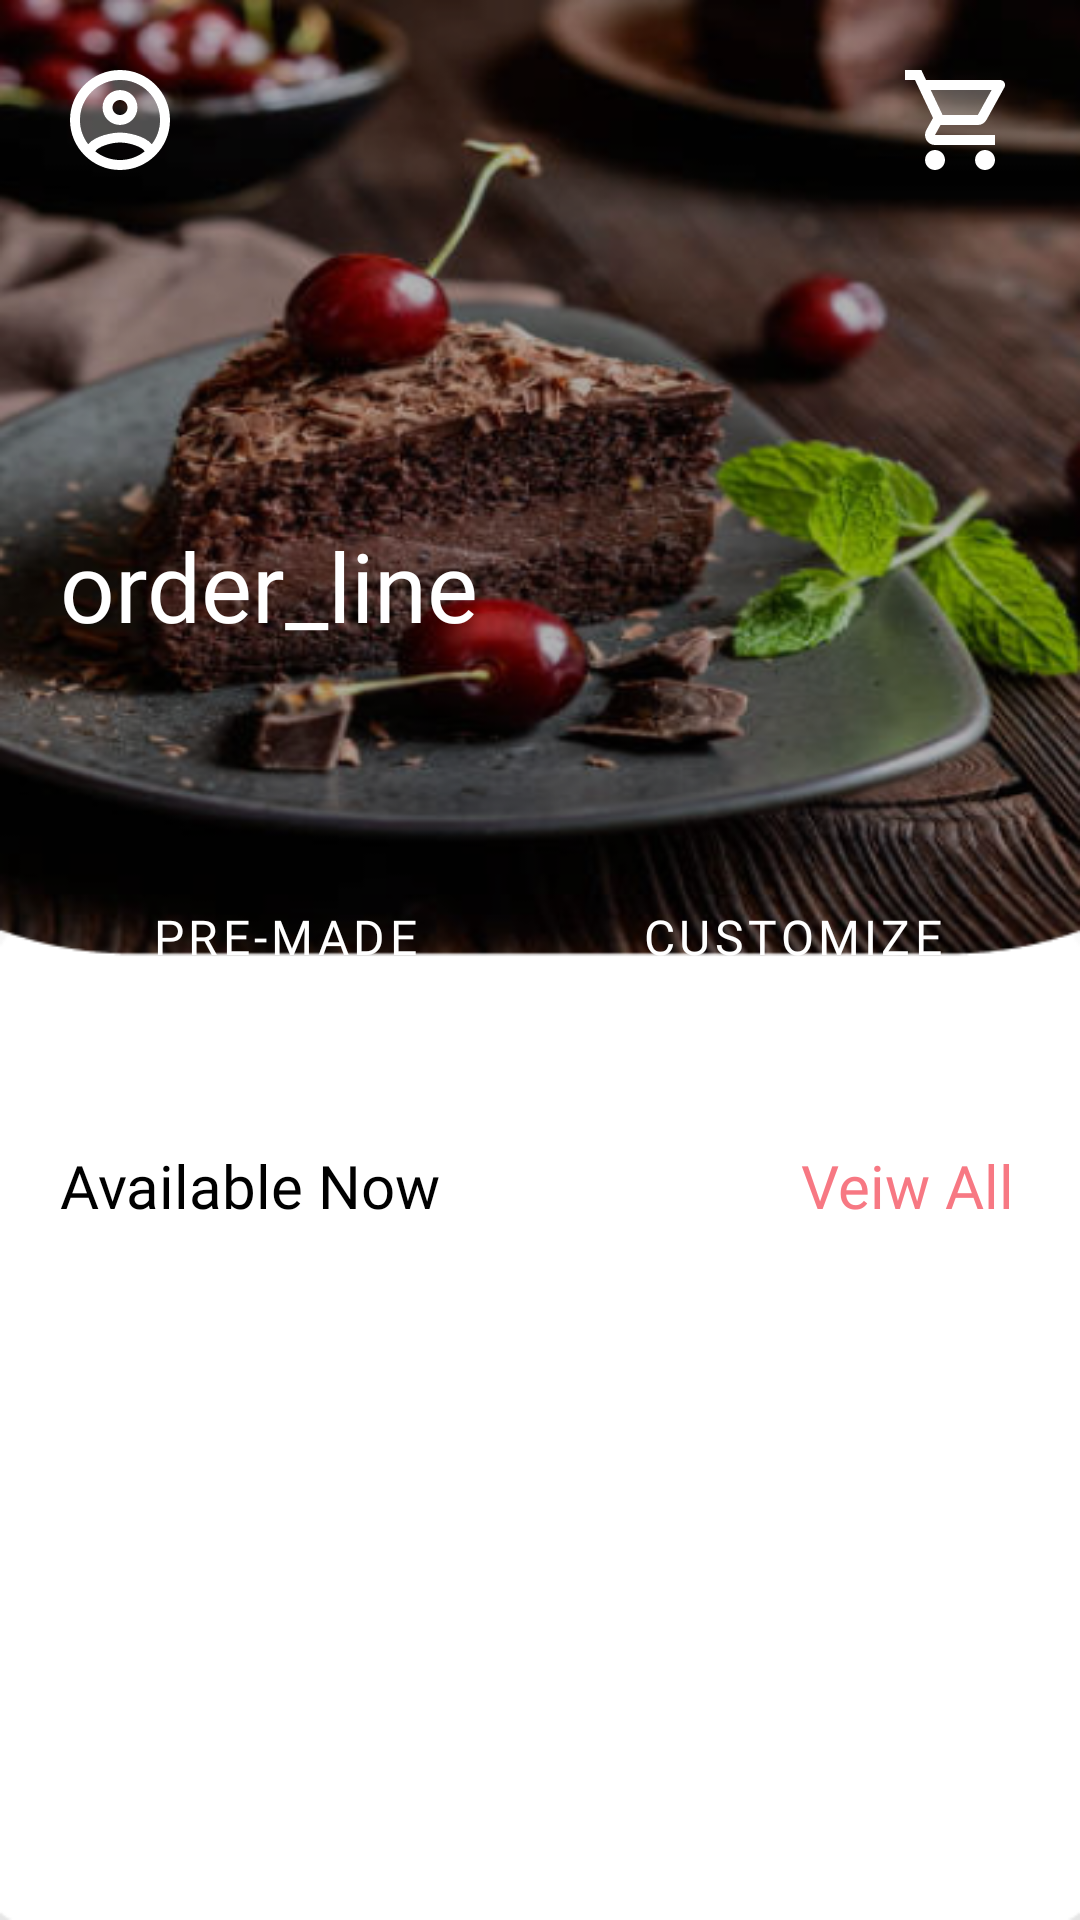

Where to tap for icons on this 1080×1920 app screen, as [x,y]:
account: [120,120]
cart: [960,115]
